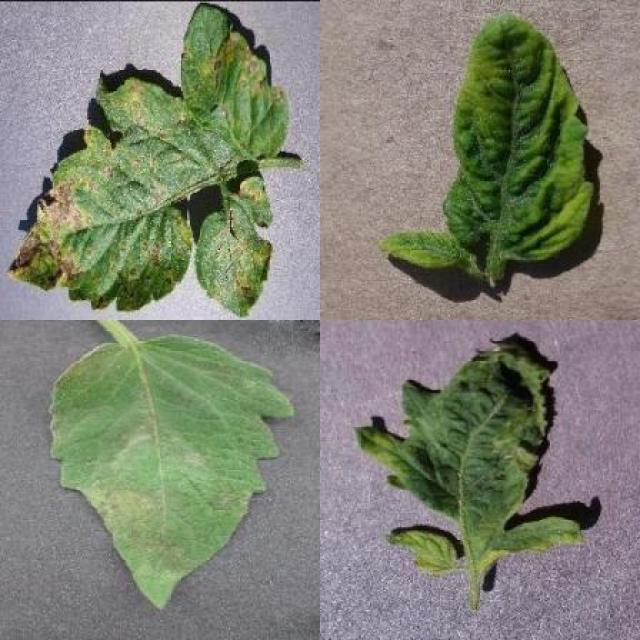Late Blight: (47, 335, 296, 611)
Mosaic Virus: (356, 342, 584, 571)
Septoria: (8, 2, 286, 315)
Yellow Leaf Curl Virus: (445, 10, 592, 263), (379, 230, 467, 270)
